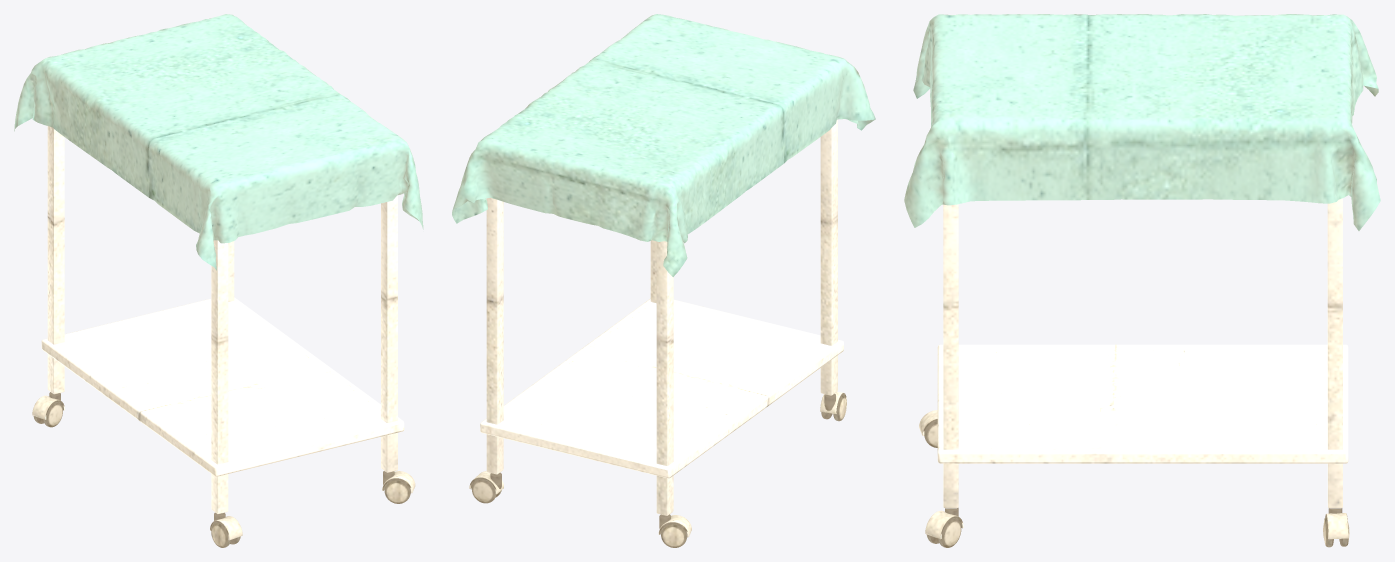
File: SM_OPR_Table_02.fbx
3 views of the same model, side by side, from view 1: azimuth 30°, elevation 25°; view 2: azimuth 150°, elevation 25°; view 3: azimuth 270°, elevation 25° (orthographic). The views are drawn at different scales.
Visible parts, largest first — view 1: SM_OPR_Table_02_LOD0; view 2: SM_OPR_Table_02_LOD0; view 3: SM_OPR_Table_02_LOD0.
Boxes of the visible parts, x1,y1,x2,y2 form: SM_OPR_Table_02_LOD0: [14, 14, 423, 547]; SM_OPR_Table_02_LOD0: [452, 14, 875, 547]; SM_OPR_Table_02_LOD0: [904, 14, 1380, 547].
Bounding box in the file's own units: 60.98 × 92.87 × 91.58.
Materials: 2 (2 with a texture image).
